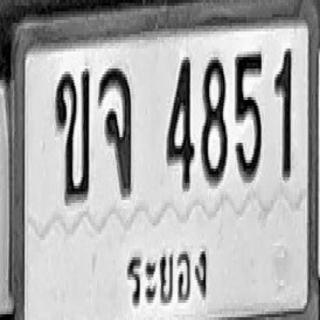A02: (55, 69, 90, 203)
A08: (99, 66, 131, 194)
N01: (274, 47, 292, 178)
N04: (166, 56, 194, 190)
N05: (235, 50, 262, 182)
N08: (201, 56, 227, 184)
P53: (122, 240, 211, 308)
